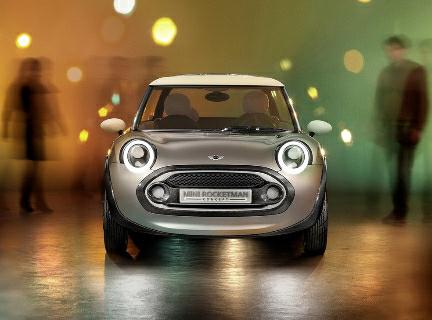MINI-ROCKETMAN: (100, 74, 327, 257)
